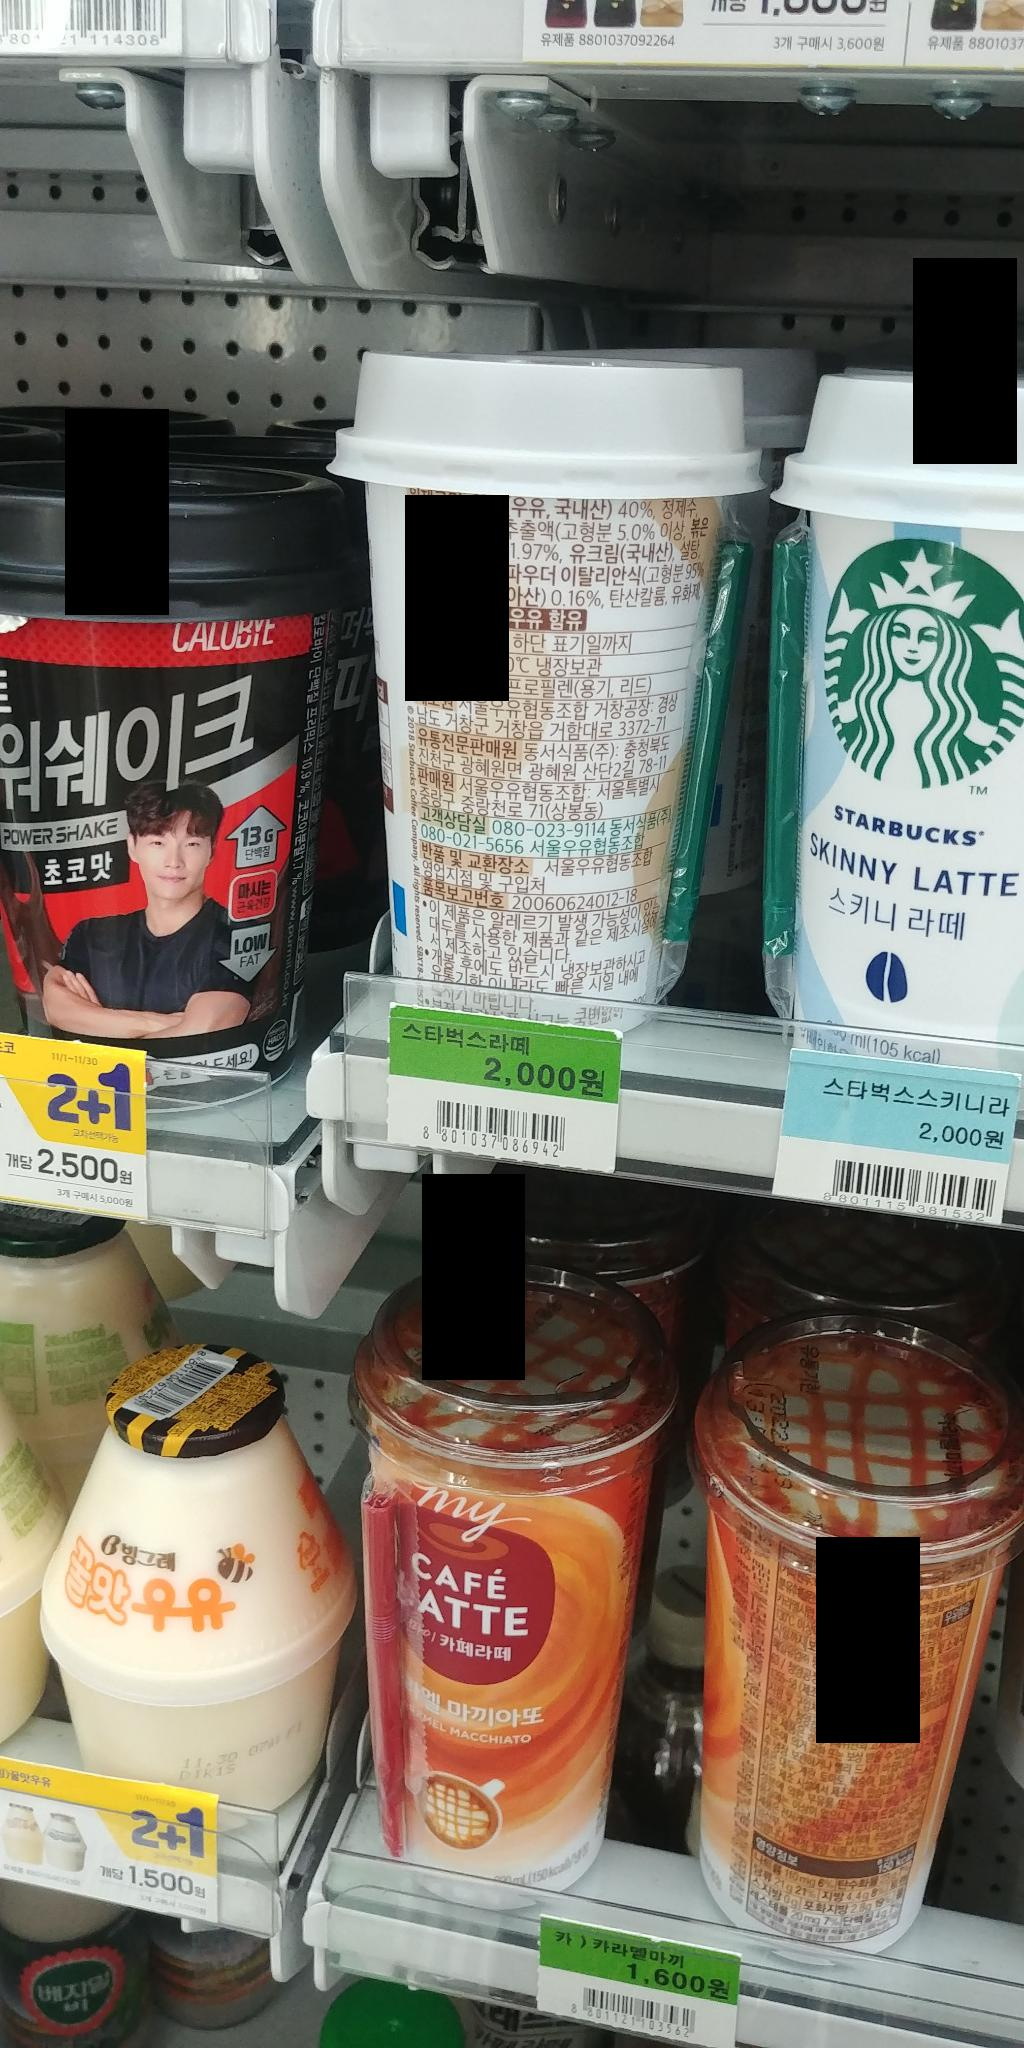starbucks_cafelatte: (329, 307, 780, 1075)
